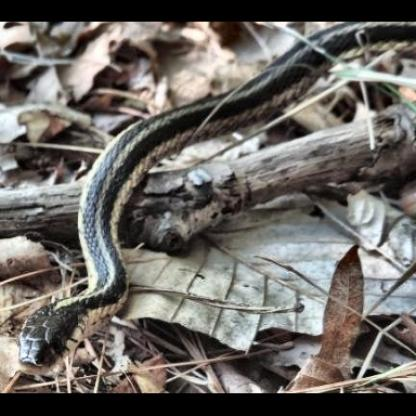Snake: (11, 102, 142, 372)
